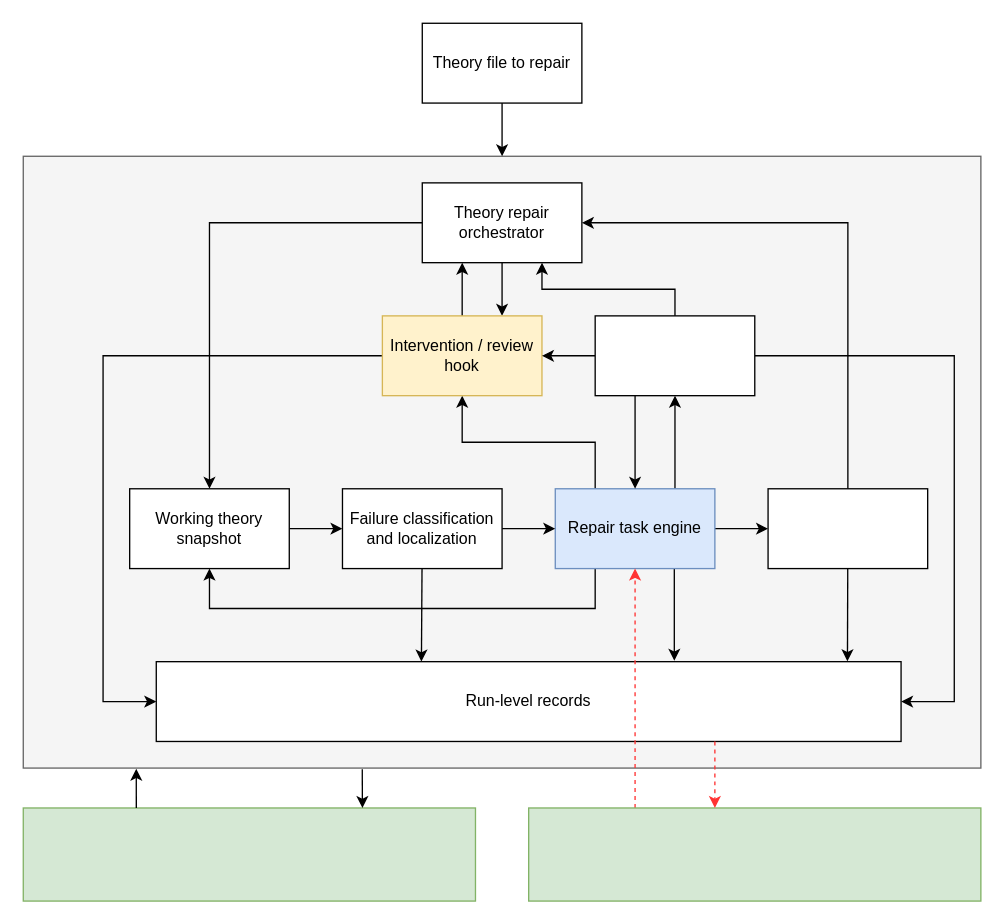
Image size: 1004x924. Some labels were removed from this diagram. Each missing label, with the centre of its shape:
Continuation selection: (847,528)
Isabelle REPL service: (248,854)
Learning layer (TBD): (754,854)
Policy and risk gate: (674,355)
